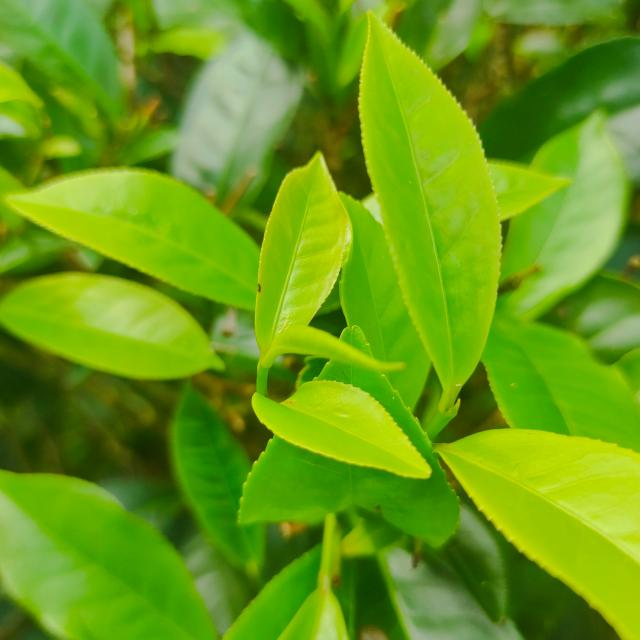unopened_leaf: (256, 319, 412, 383)
